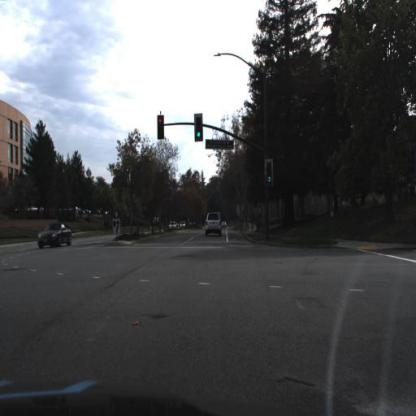car: (36, 220, 75, 249), (203, 208, 224, 238)
trafficLight: (193, 114, 205, 143), (264, 159, 276, 187)
trafficLight-RedLeft: (157, 115, 166, 141)
